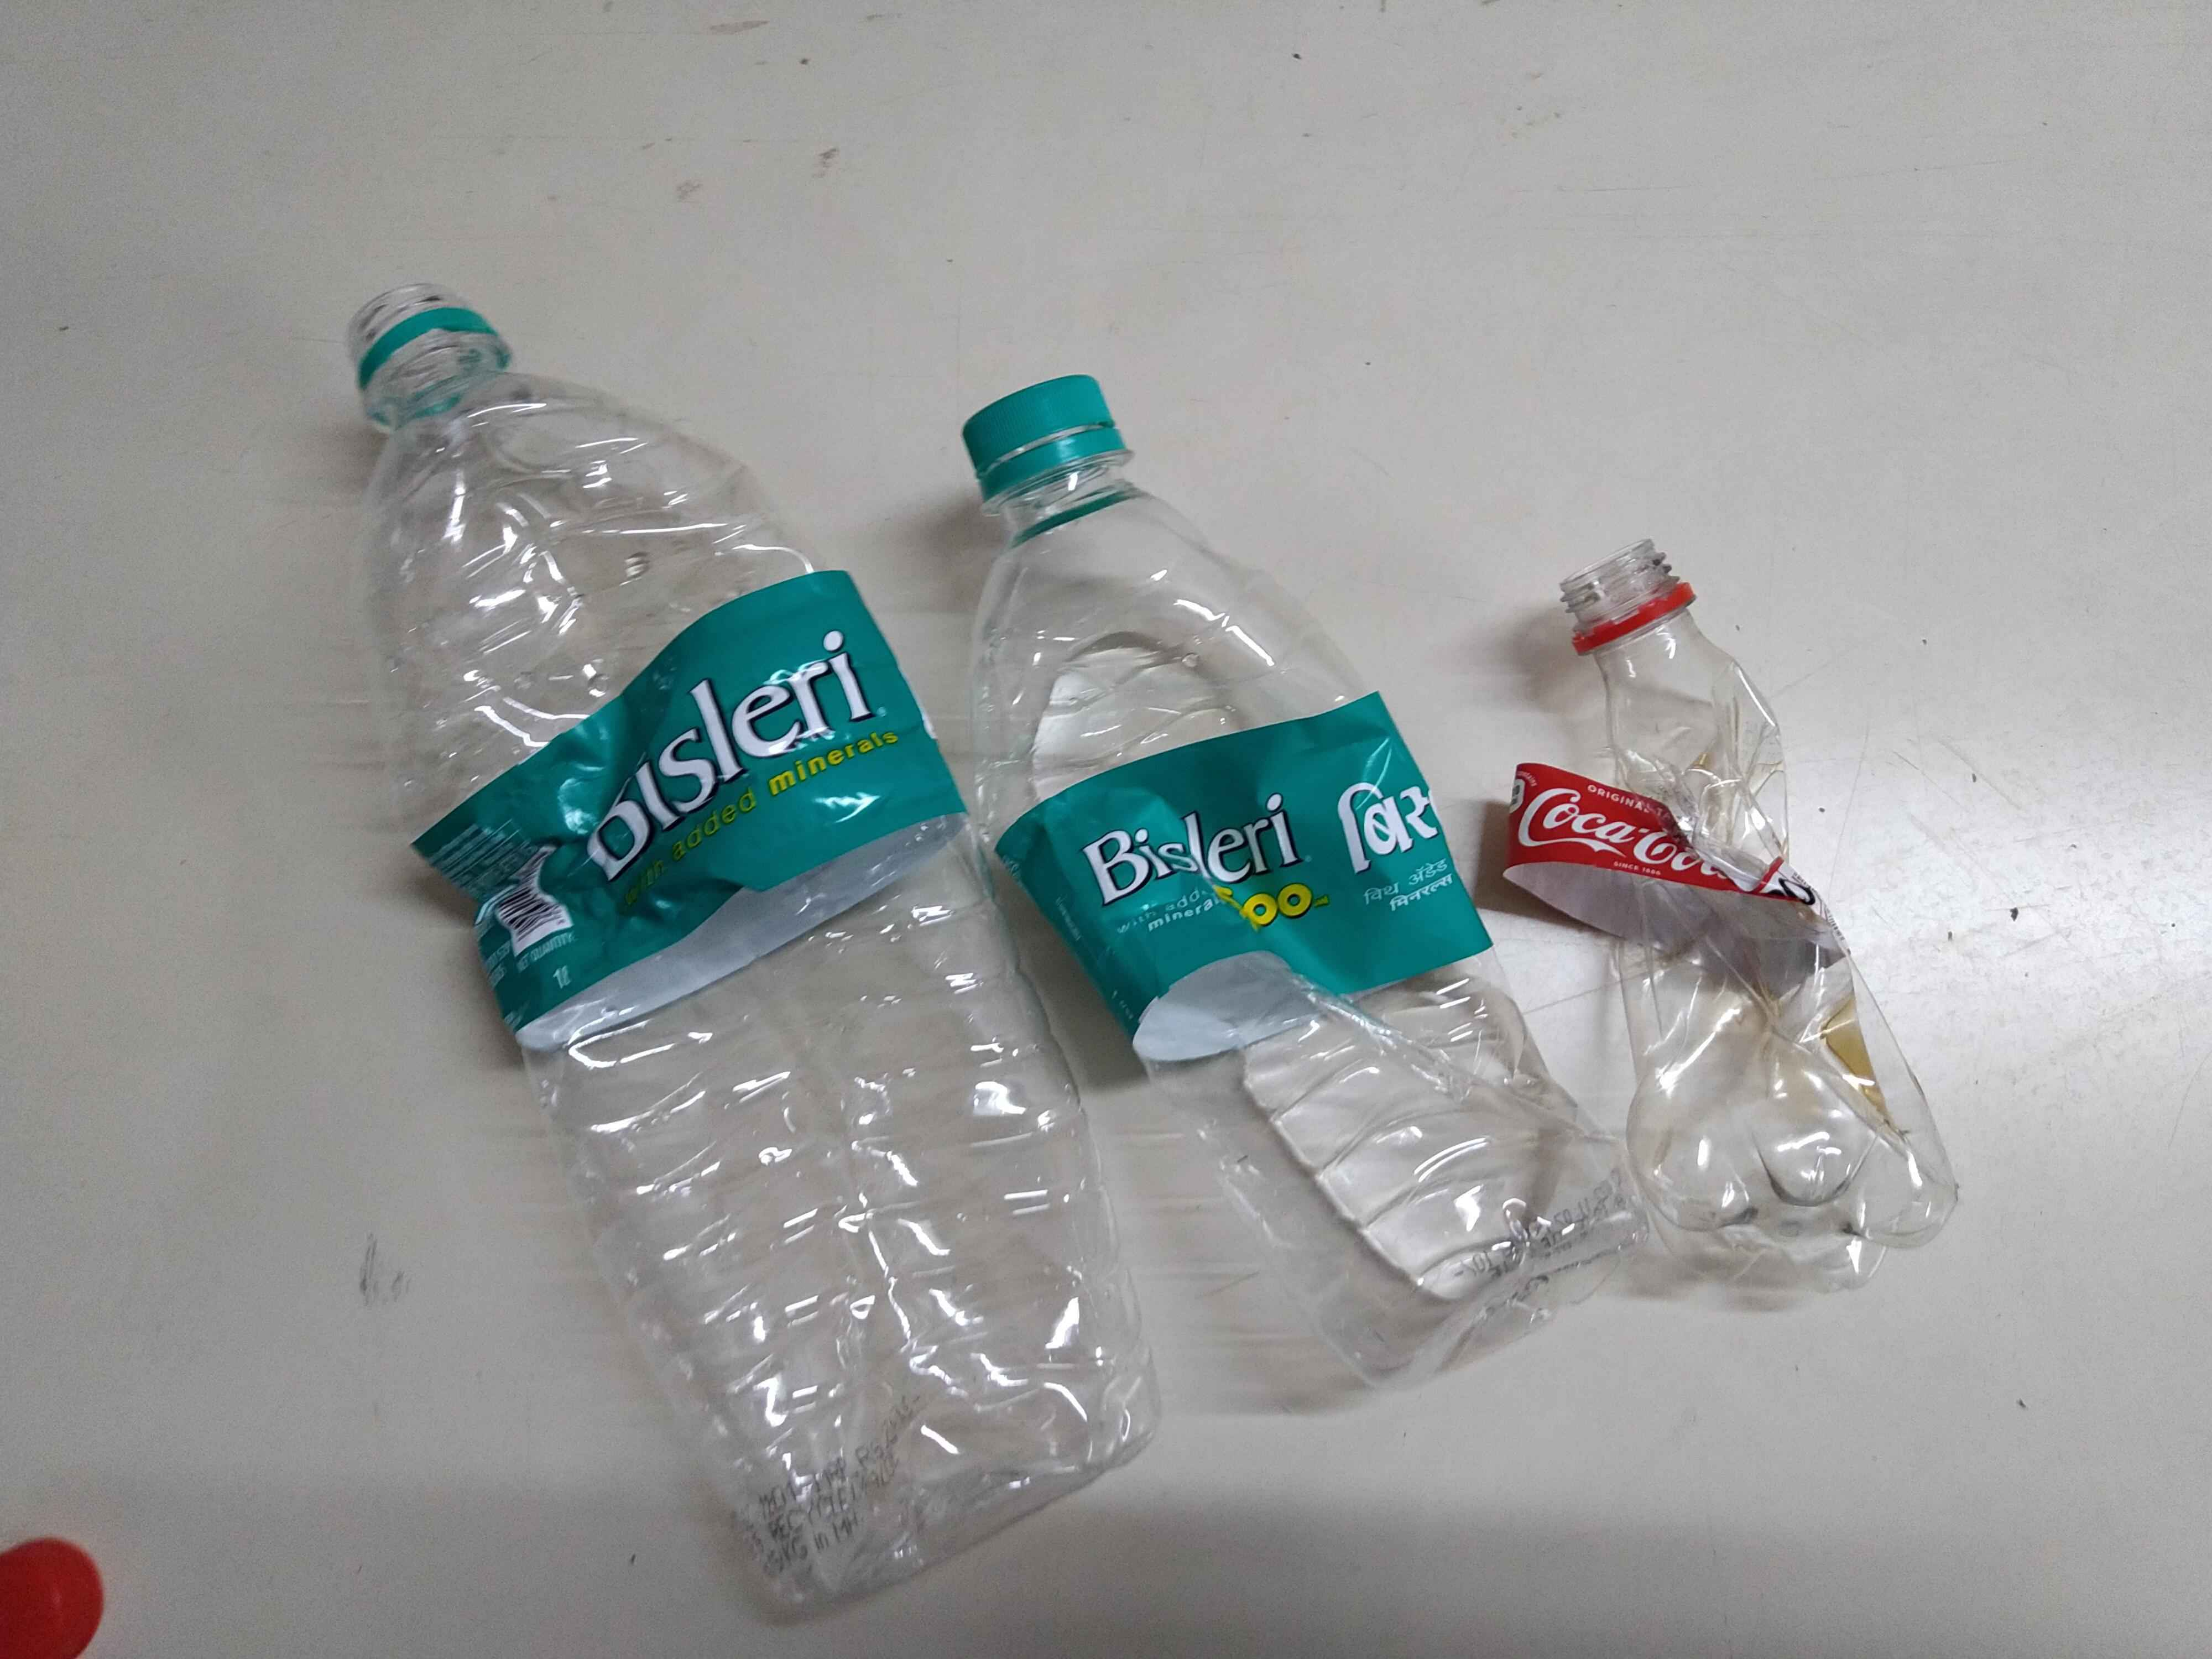Bisleri: (519, 589, 880, 1019), (1090, 763, 1440, 953)
Coca-Cola: (1496, 788, 1735, 861)
